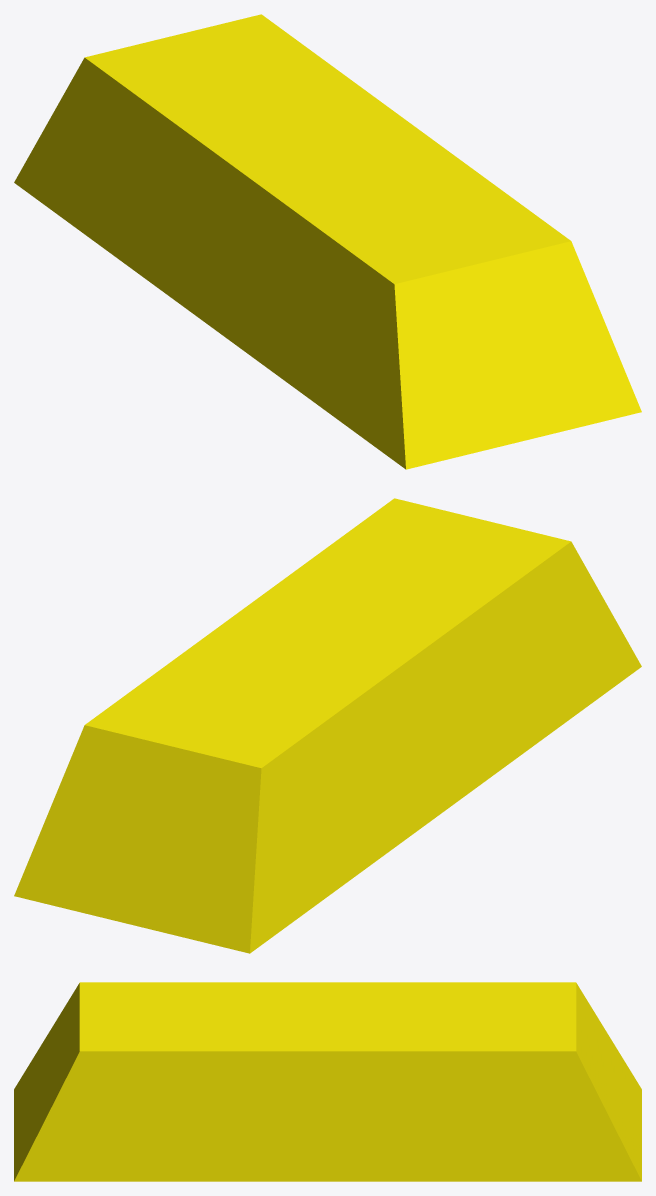
File: gold.glb
The picture shows the model from 3 angles, top to bottom: view 1: azimuth 30°, elevation 25°; view 2: azimuth 150°, elevation 25°; view 3: azimuth 270°, elevation 25°; orthographic projection. The views are drawn at different scales.
Visible parts, largest first — view 1: Cube; view 2: Cube; view 3: Cube.
Part boxes in pixels (bbox=[...]): Cube: bbox=[14, 14, 641, 469]; Cube: bbox=[14, 498, 641, 953]; Cube: bbox=[14, 982, 641, 1181].
Bounding box in the file's own units: 2 × 1.2 × 5.76.
1 material, 1 textured.
